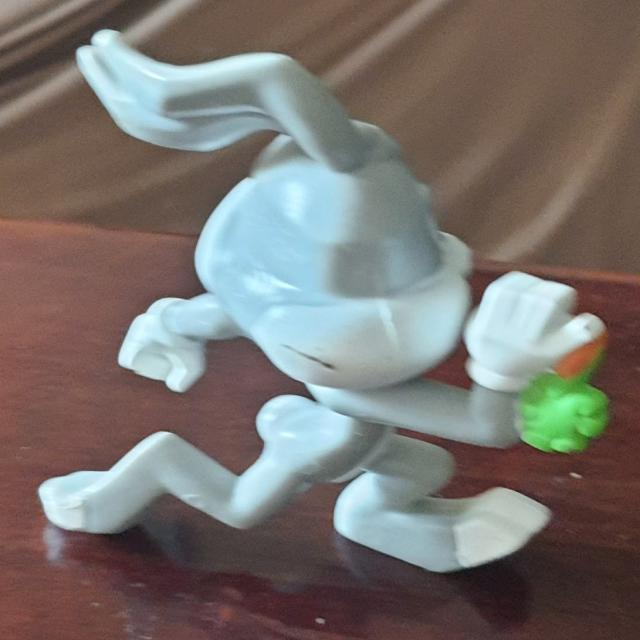Rabbit: (38, 27, 604, 576)
